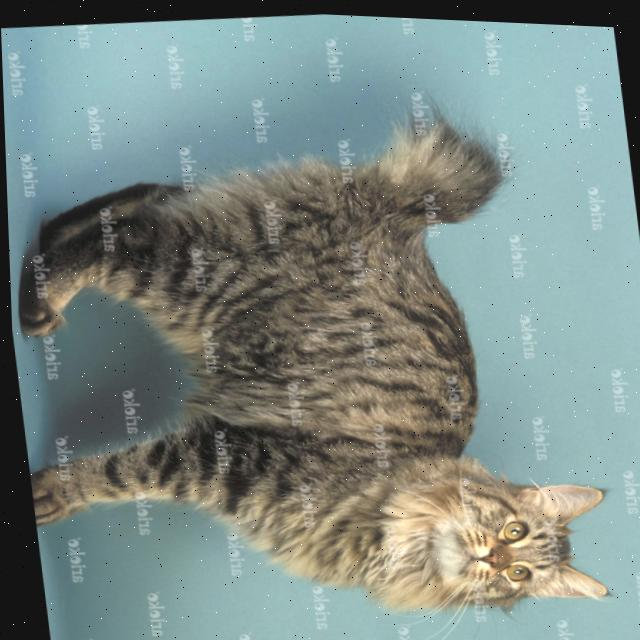American Bobtail: (3, 90, 619, 640)
